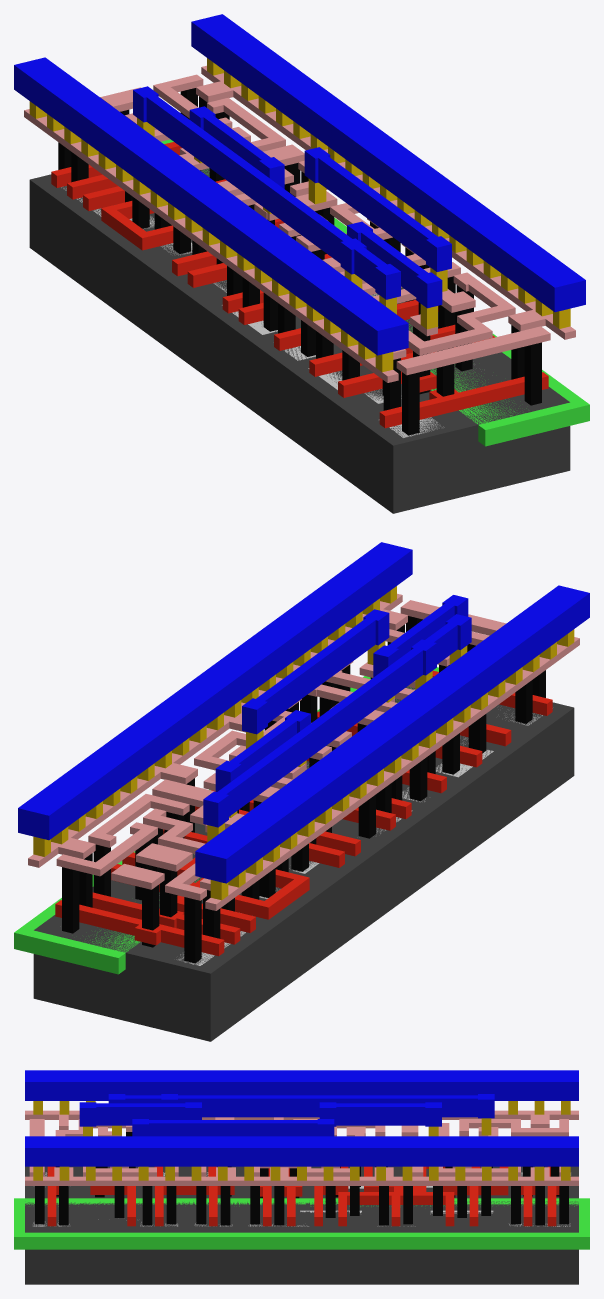
The model's file is sky130_fd_sc_hd__mux4_1.obj.
3 renders of one model, top to bottom at view 1: azimuth 30°, elevation 25°; view 2: azimuth 150°, elevation 25°; view 3: azimuth 270°, elevation 25°, orthographic. The views are drawn at different scales.
Parts seen in each view (by area): view 1: metal1, subs, li, poly, licon, mcon, nwell, diff; view 2: metal1, subs, li, licon, poly, mcon, nwell, diff; view 3: metal1, subs, nwell, li, licon, poly, mcon, tap.
Part boxes in pixels (x1,y1,x2,y2): metal1: [14, 14, 585, 355]; subs: [29, 168, 570, 513]; li: [24, 65, 575, 382]; poly: [51, 142, 548, 428]; licon: [58, 88, 541, 435]; mcon: [29, 58, 570, 372]; nwell: [161, 139, 589, 446]; diff: [61, 187, 444, 437]; metal1: [18, 542, 589, 883]; subs: [33, 686, 574, 1041]; li: [28, 593, 579, 910]; licon: [62, 616, 545, 963]; poly: [55, 670, 552, 956]; mcon: [33, 586, 574, 900]; nwell: [14, 667, 438, 974]; diff: [176, 713, 542, 965]; metal1: [25, 1070, 578, 1166]; subs: [25, 1166, 578, 1284]; nwell: [14, 1198, 589, 1249]; li: [25, 1110, 578, 1185]; licon: [35, 1132, 568, 1225]; poly: [47, 1166, 559, 1226]; mcon: [33, 1101, 570, 1180]; tap: [33, 1210, 570, 1226].
Size of the model in its own units: 3.2 by 2.74 by 10.04.
